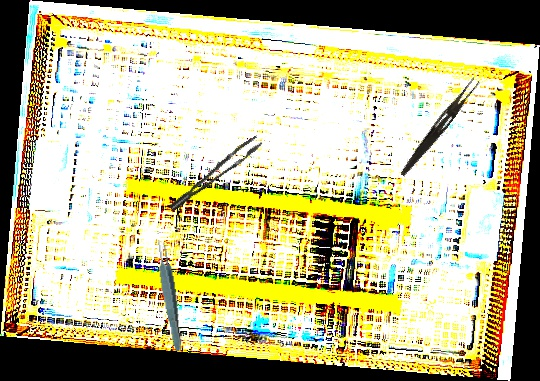Dressing Forceps: (398, 74, 481, 181)
Tissue Forceps: (161, 134, 269, 212), (153, 239, 187, 352)
